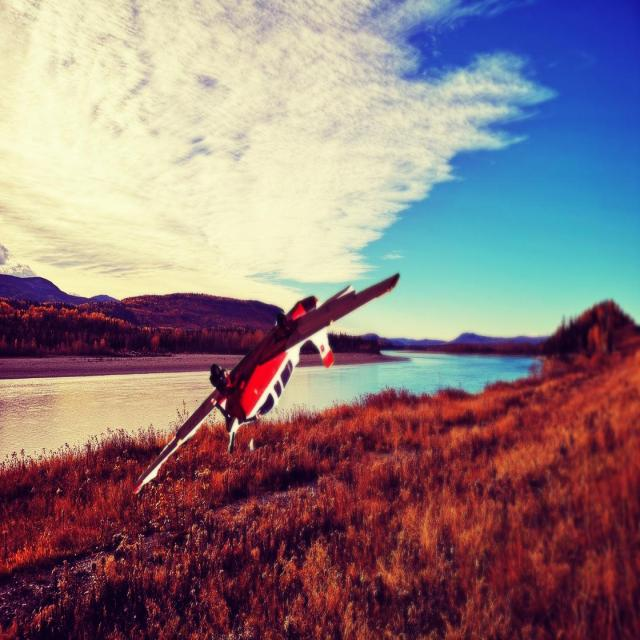airplane: (132, 271, 400, 495)
